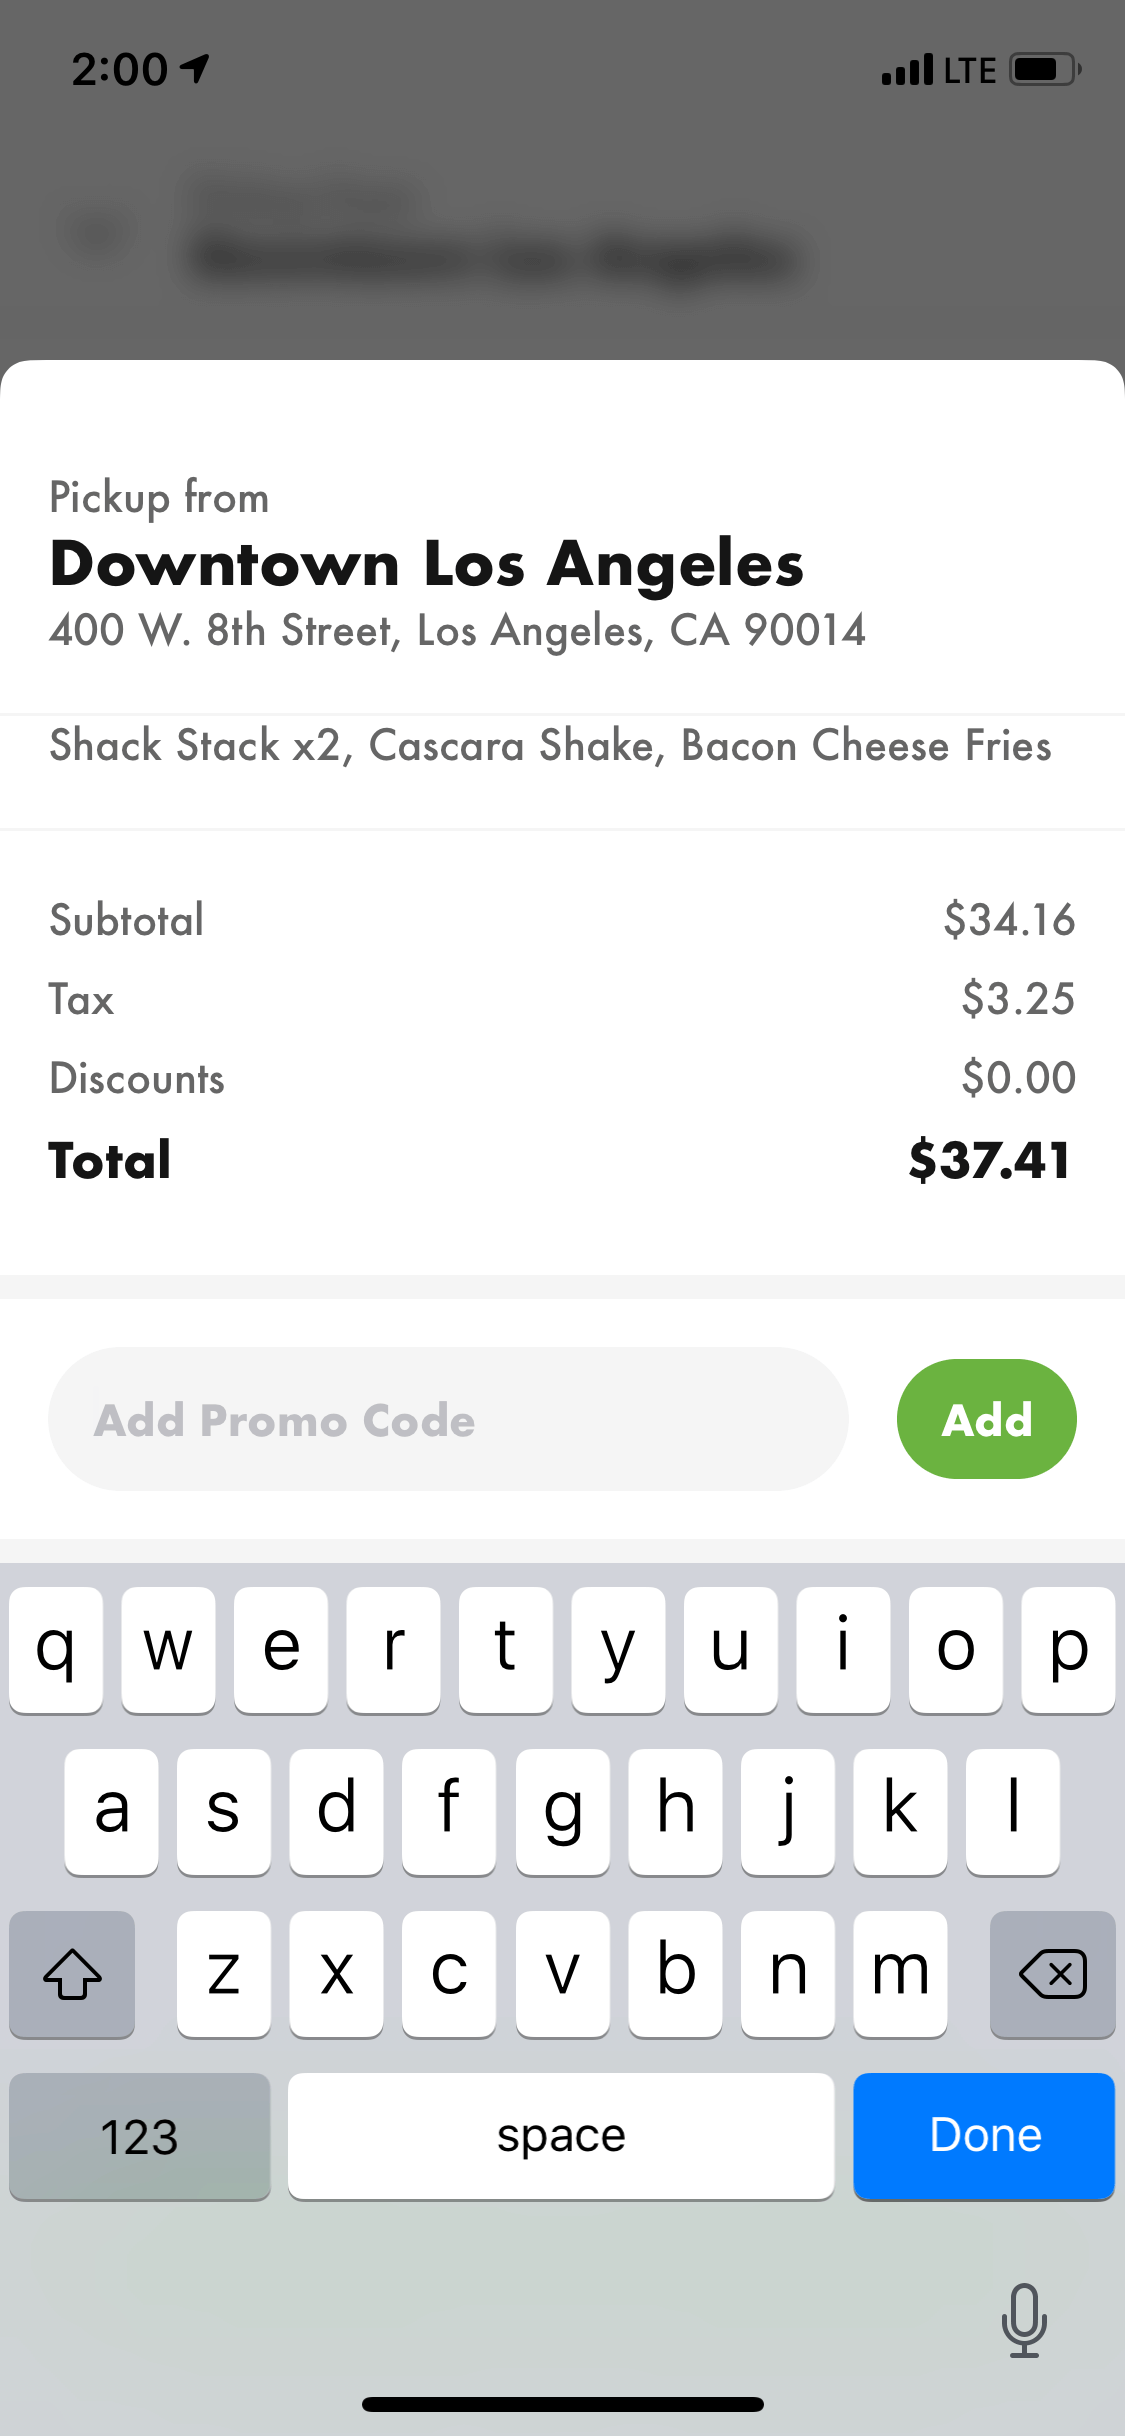Buttons: (887, 1341, 1091, 1496)
Text Fields: (37, 1330, 855, 1510)
